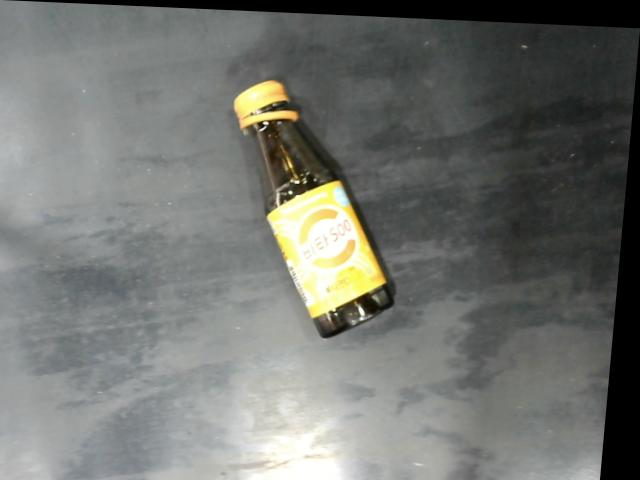glass: (218, 76, 417, 339)
